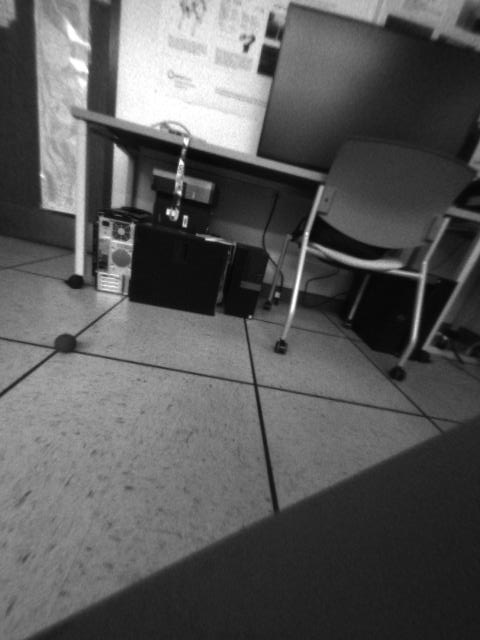dogtoy: (40, 317, 87, 356)
